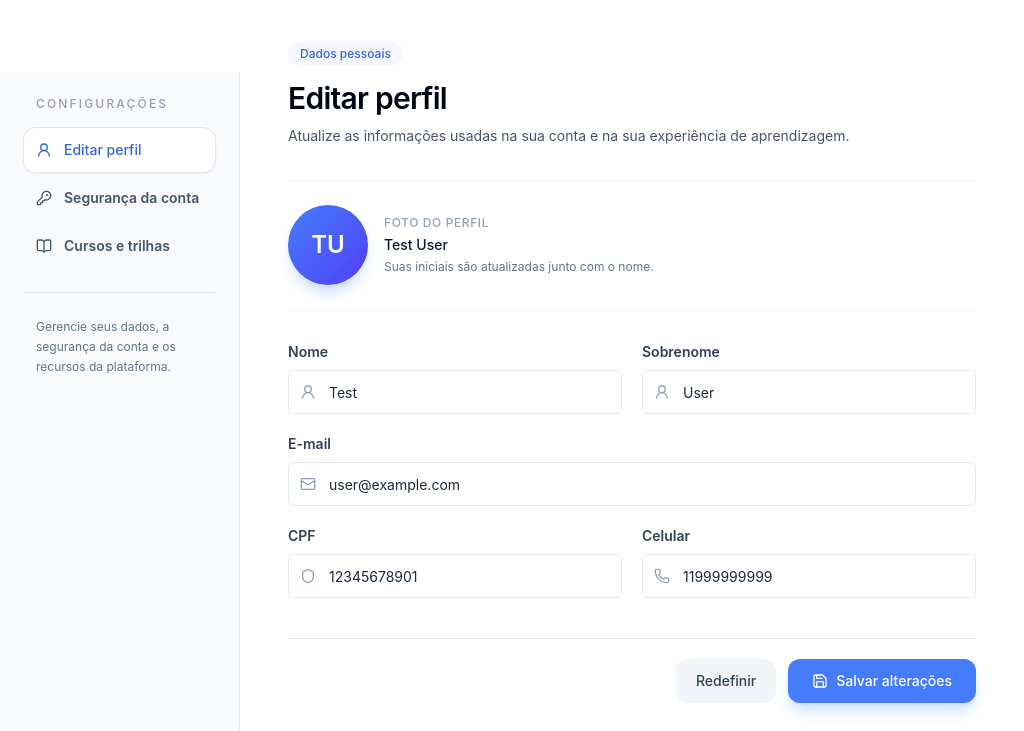
Persistent profile and administrative users › persists profile edits through the authenticated API
The image size is (1024, 731).
Replace the text in the field labelled "Nome" with "Updated": point(455, 392) [288,370,622,414]
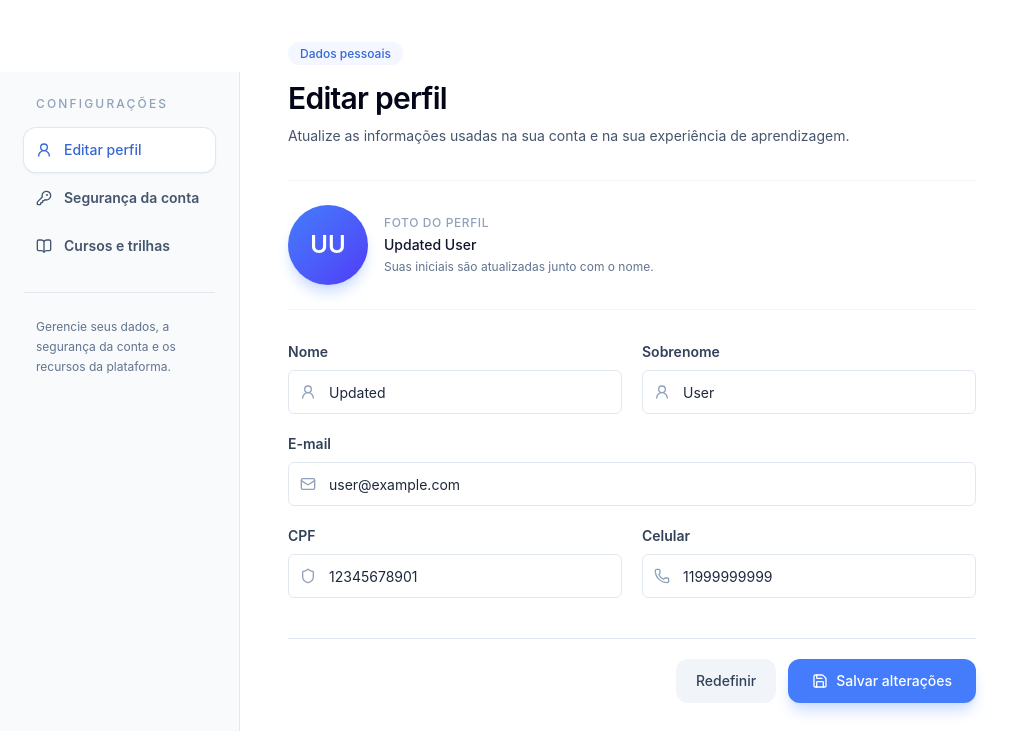
Replace the text in the field labelled "E-mail" with "updated@example.com": point(632, 484) [288,462,976,506]
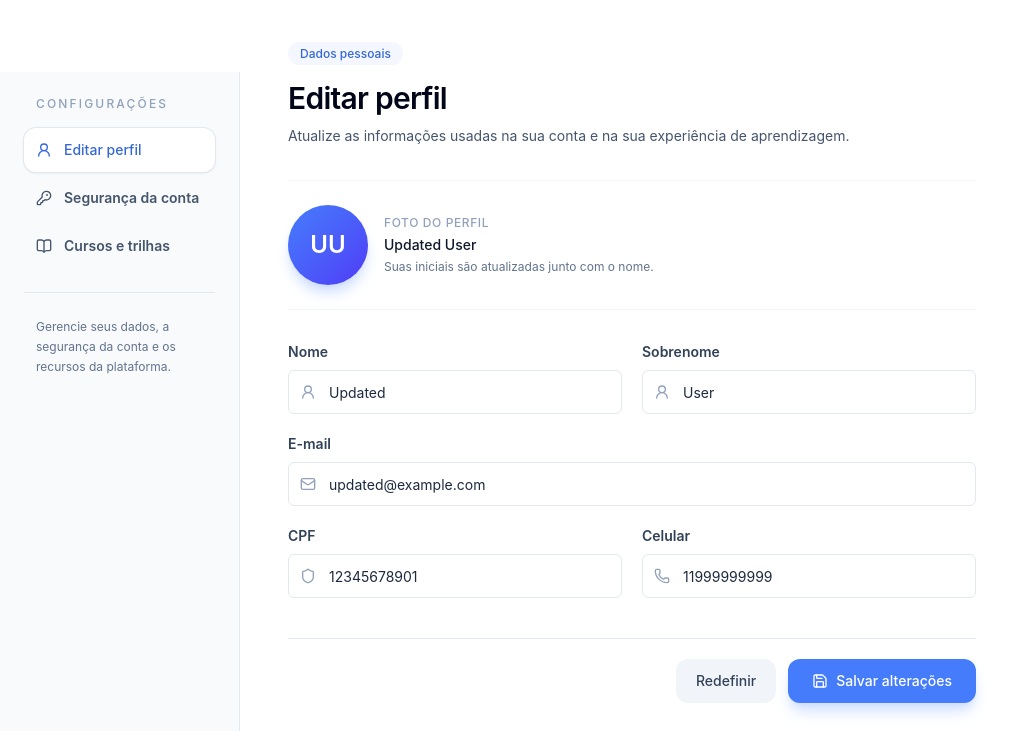
Click the button "Salvar alterações": point(882, 681) [788,659,976,703]
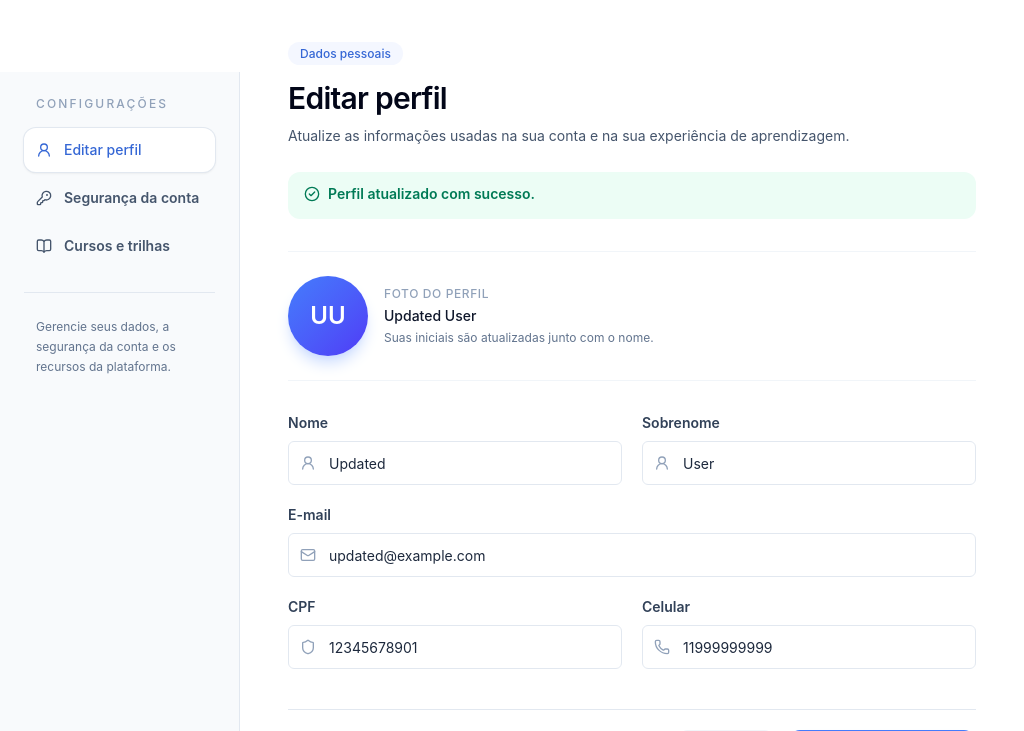
expect the text "Perfil atualizado com sucesso." is shown: met, box [304,184,535,204]
